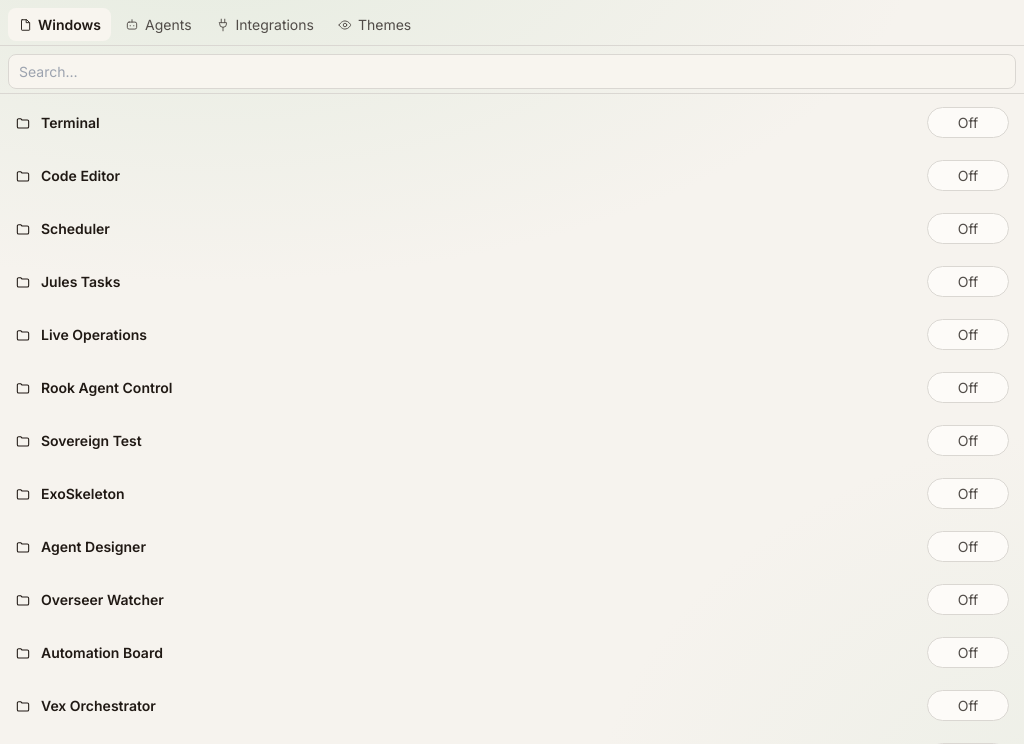
Scenario: Brief B2 - MarketplaceWindow panel › search filters rows by label (case-insensitive)
In the field with test id "marketplace-search": (512, 72) [8,54,1016,89], type "chat"
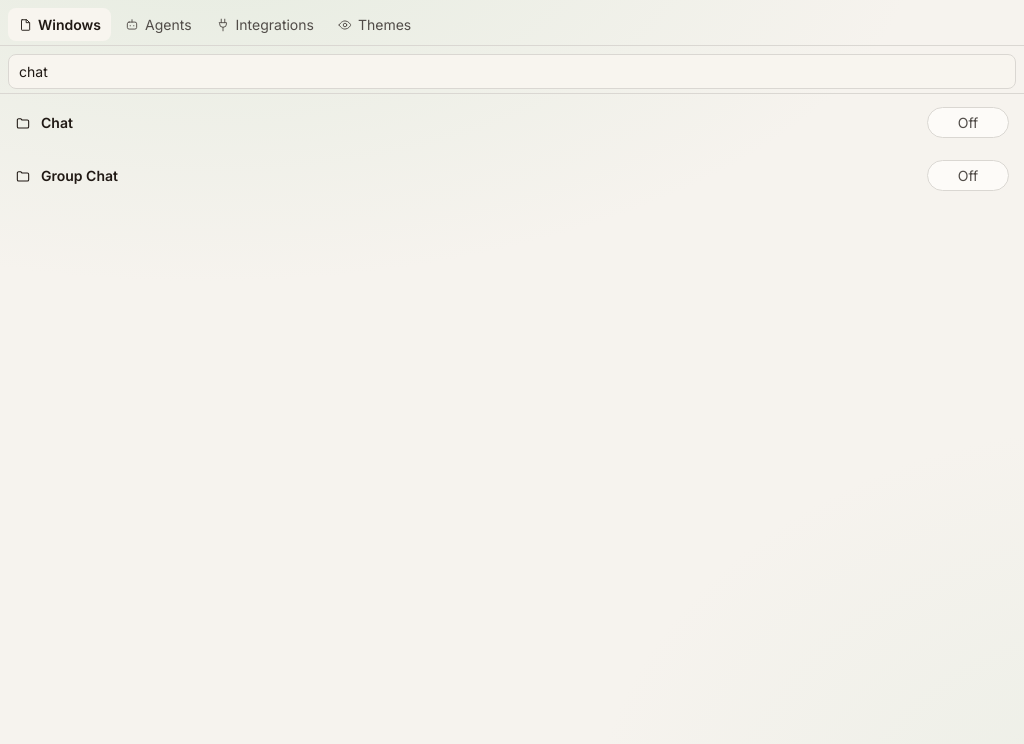
Now the element with test id "marketplace-row-chat" is shown, box [4,98,1020,147]
Now the element with test id "marketplace-row-terminal" is gone
